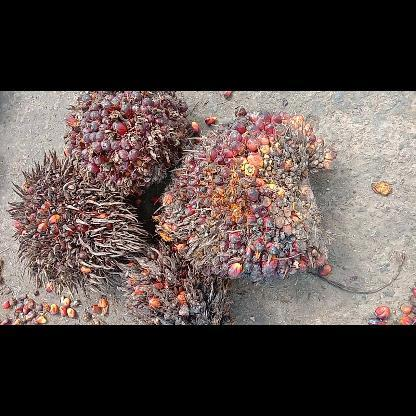TBS masak: (154, 110, 336, 280), (65, 91, 193, 195)
Terlalu masak: (5, 148, 146, 298), (117, 240, 231, 324)
